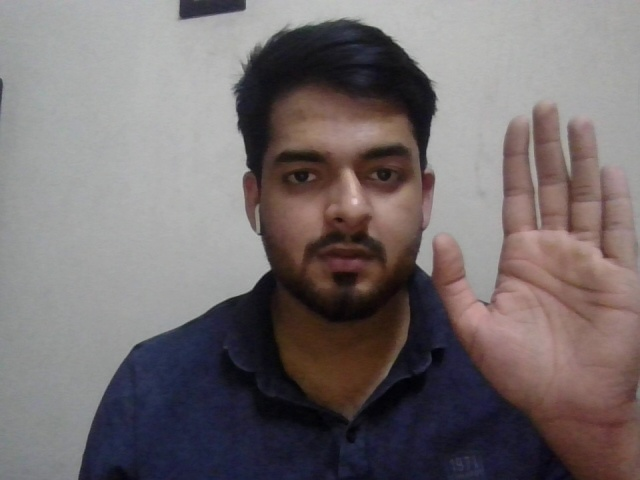hello: (434, 101, 640, 446)
